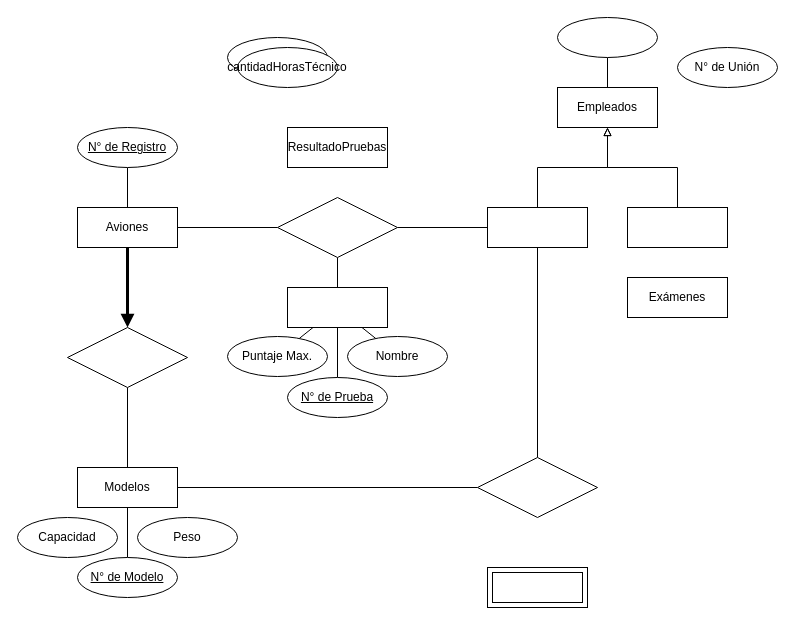
The diagram is 795 pixels wide and 625 high, and some of its shapes have lost their labels. The box of each missing label's shape, as (x1, y1, x2, y2) in pixels:
Controladores: (626, 206, 728, 248)
DNI: (556, 16, 658, 58)
Experticia: (486, 566, 588, 608)
Realizan: (276, 196, 398, 258)
Son expertos en: (476, 456, 598, 518)
Tiene: (66, 326, 188, 388)
TipoPruebas: (286, 286, 388, 328)
Técnicos: (486, 206, 588, 248)
